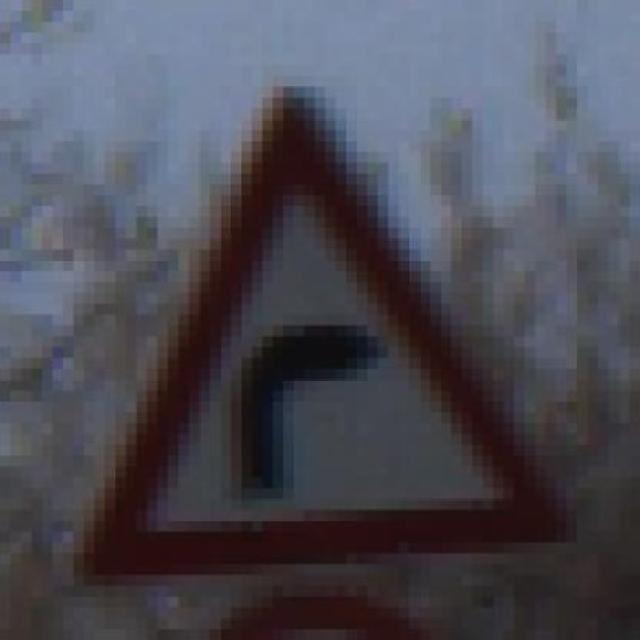Dangerous Rright Curve Ahead: (73, 76, 578, 586)
